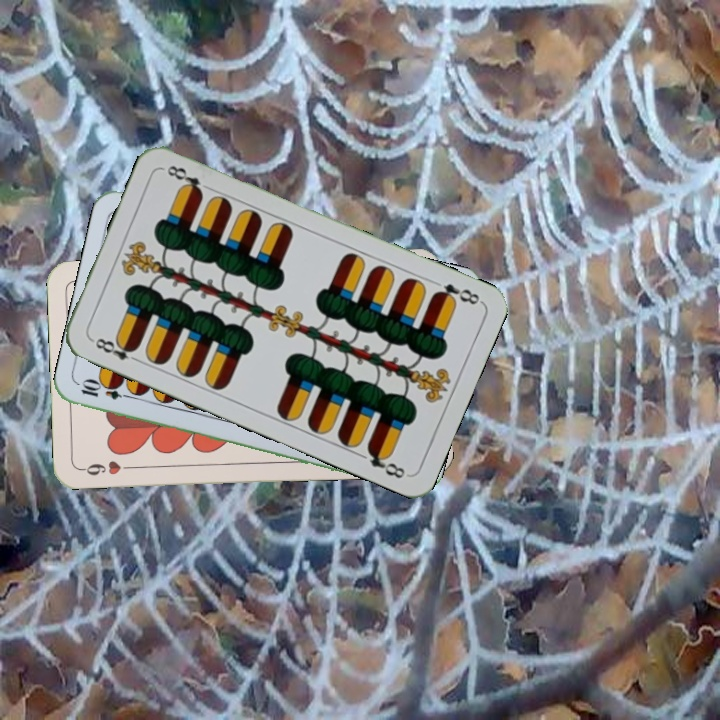E10: (76, 378, 136, 402)
E8: (87, 334, 143, 365), (429, 279, 484, 308)
H9: (78, 456, 137, 478)
